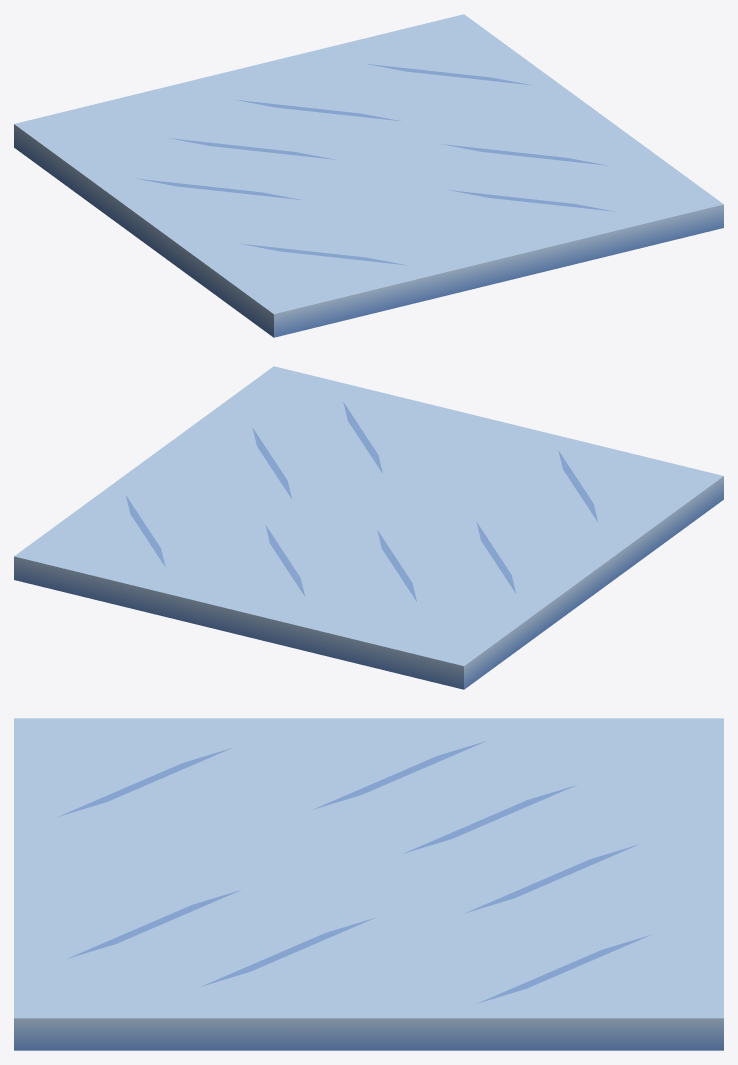
File: ice-floor.glb
3 renders of one model, top to bottom at view 1: azimuth 30°, elevation 25°; view 2: azimuth 150°, elevation 25°; view 3: azimuth 270°, elevation 25°, orthographic. The views are drawn at different scales.
Visible parts, largest first — view 1: ice; view 2: ice; view 3: ice.
Part boxes in pixels (x1,y1,x2,y2): ice: [14, 14, 723, 337]; ice: [14, 366, 723, 689]; ice: [14, 718, 723, 1050].
Bounding box in the file's own units: 1 × 0.0517 × 1.
1 material, 1 textured.
